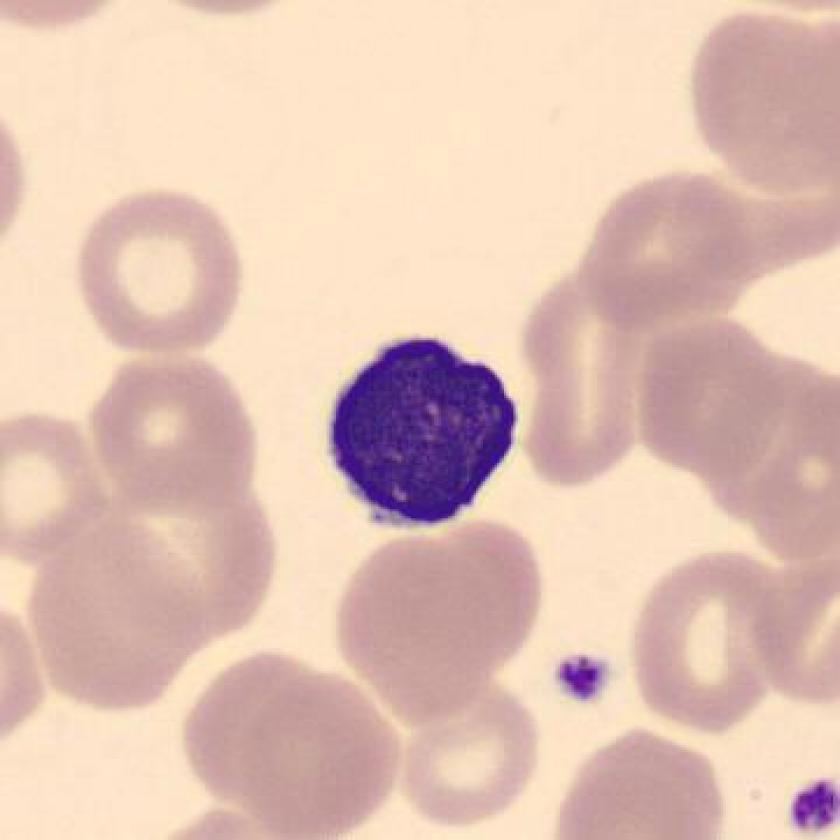lymphocyte: (309, 323, 540, 543)
